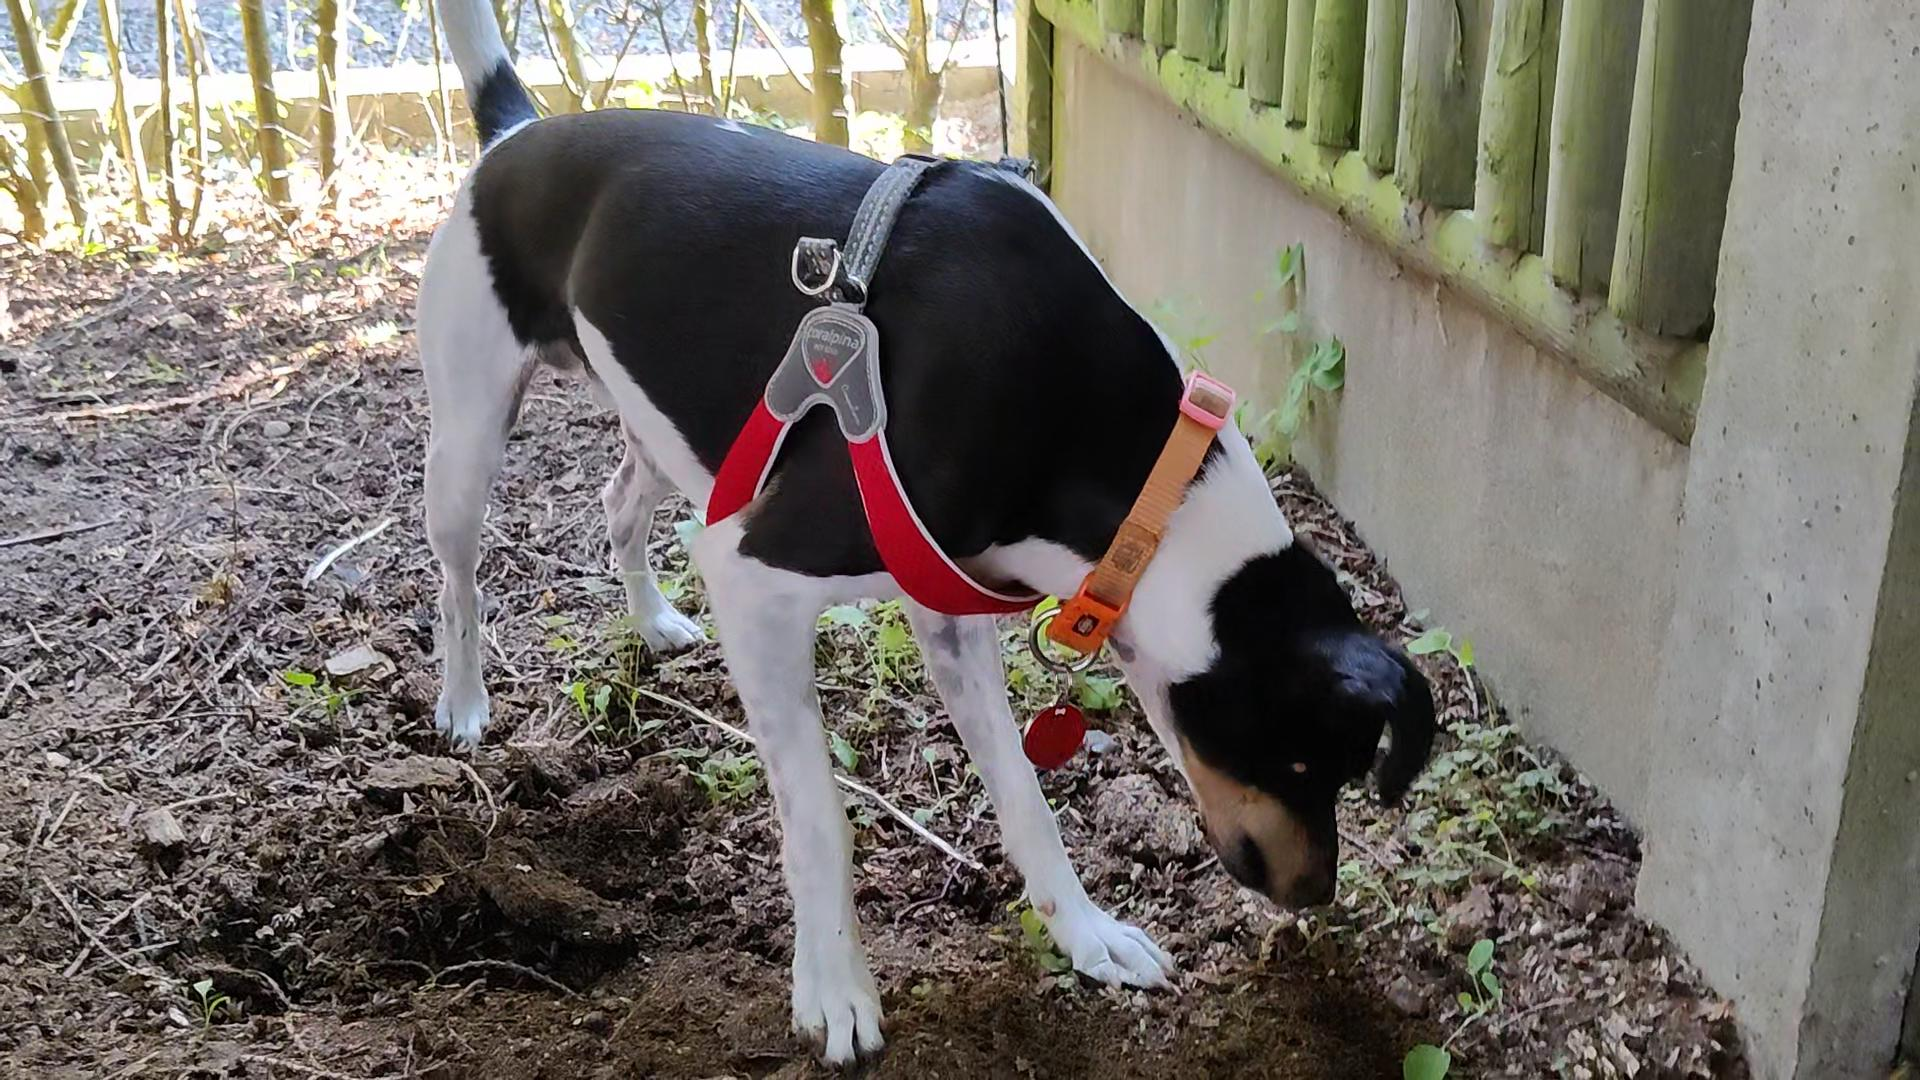Dog: (392, 0, 1451, 1071)
